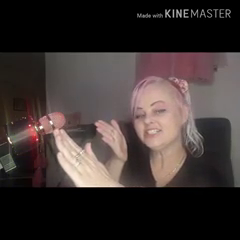H: (49, 116, 129, 190)
